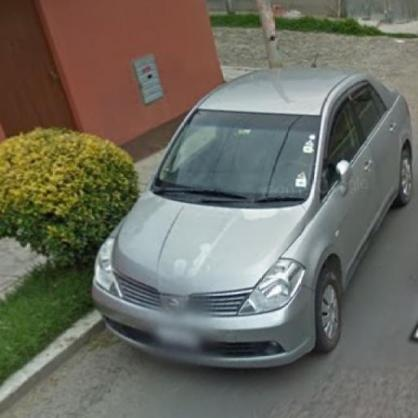car: (97, 65, 414, 371)
